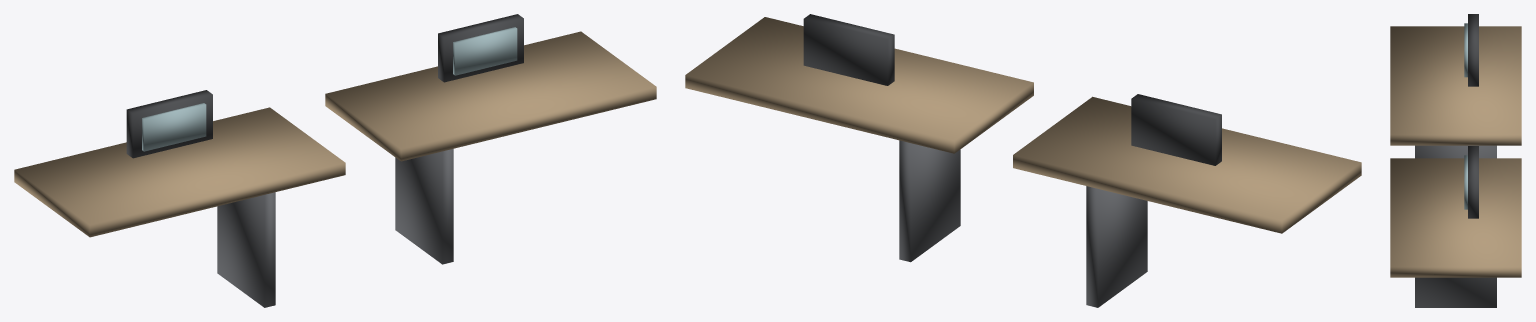
The model's file is newsroom_desk_cluster__squat.glb.
The picture shows the model from 3 angles, left to right: view 1: azimuth 30°, elevation 25°; view 2: azimuth 150°, elevation 25°; view 3: azimuth 270°, elevation 25°; orthographic projection. The views are drawn at different scales.
Visible parts, largest first — view 1: world; view 2: world; view 3: world.
Part boxes in pixels (x1,y1,x2,y2): world: [14, 14, 656, 307]; world: [685, 14, 1361, 307]; world: [1390, 14, 1521, 307].
Bounding box in the file's own units: 2.81 × 0.9282 × 0.648.
